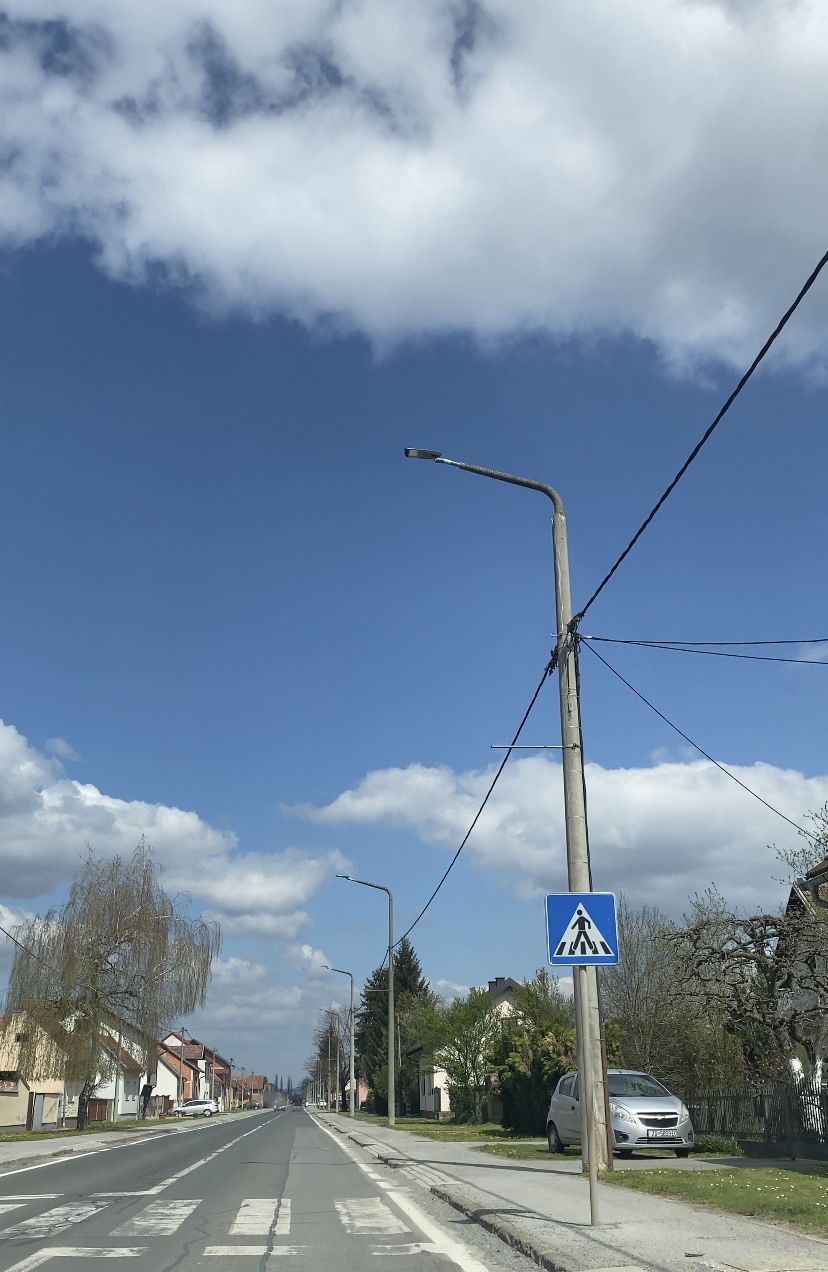Pješački prijelaz: (545, 891, 619, 966)
